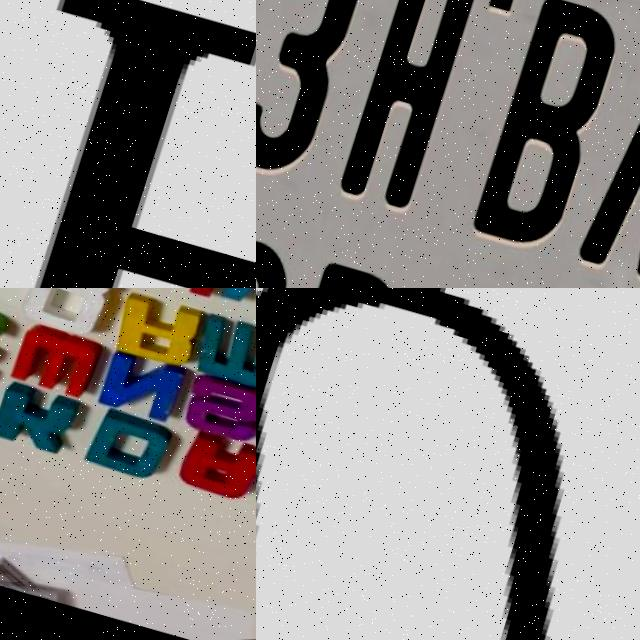3: (256, 0, 380, 184)
A: (175, 429, 256, 507)
B: (465, 0, 629, 260)
D: (84, 409, 179, 487)
H: (336, 0, 487, 214)
K: (0, 378, 80, 458)
M: (186, 311, 256, 394)
N: (89, 345, 196, 431)
P: (35, 0, 256, 288)
Q: (20, 288, 122, 342)
R: (108, 289, 212, 377)
S: (180, 366, 256, 452)
U: (256, 288, 640, 640)
V: (575, 19, 640, 287)
W: (3, 315, 109, 405)
